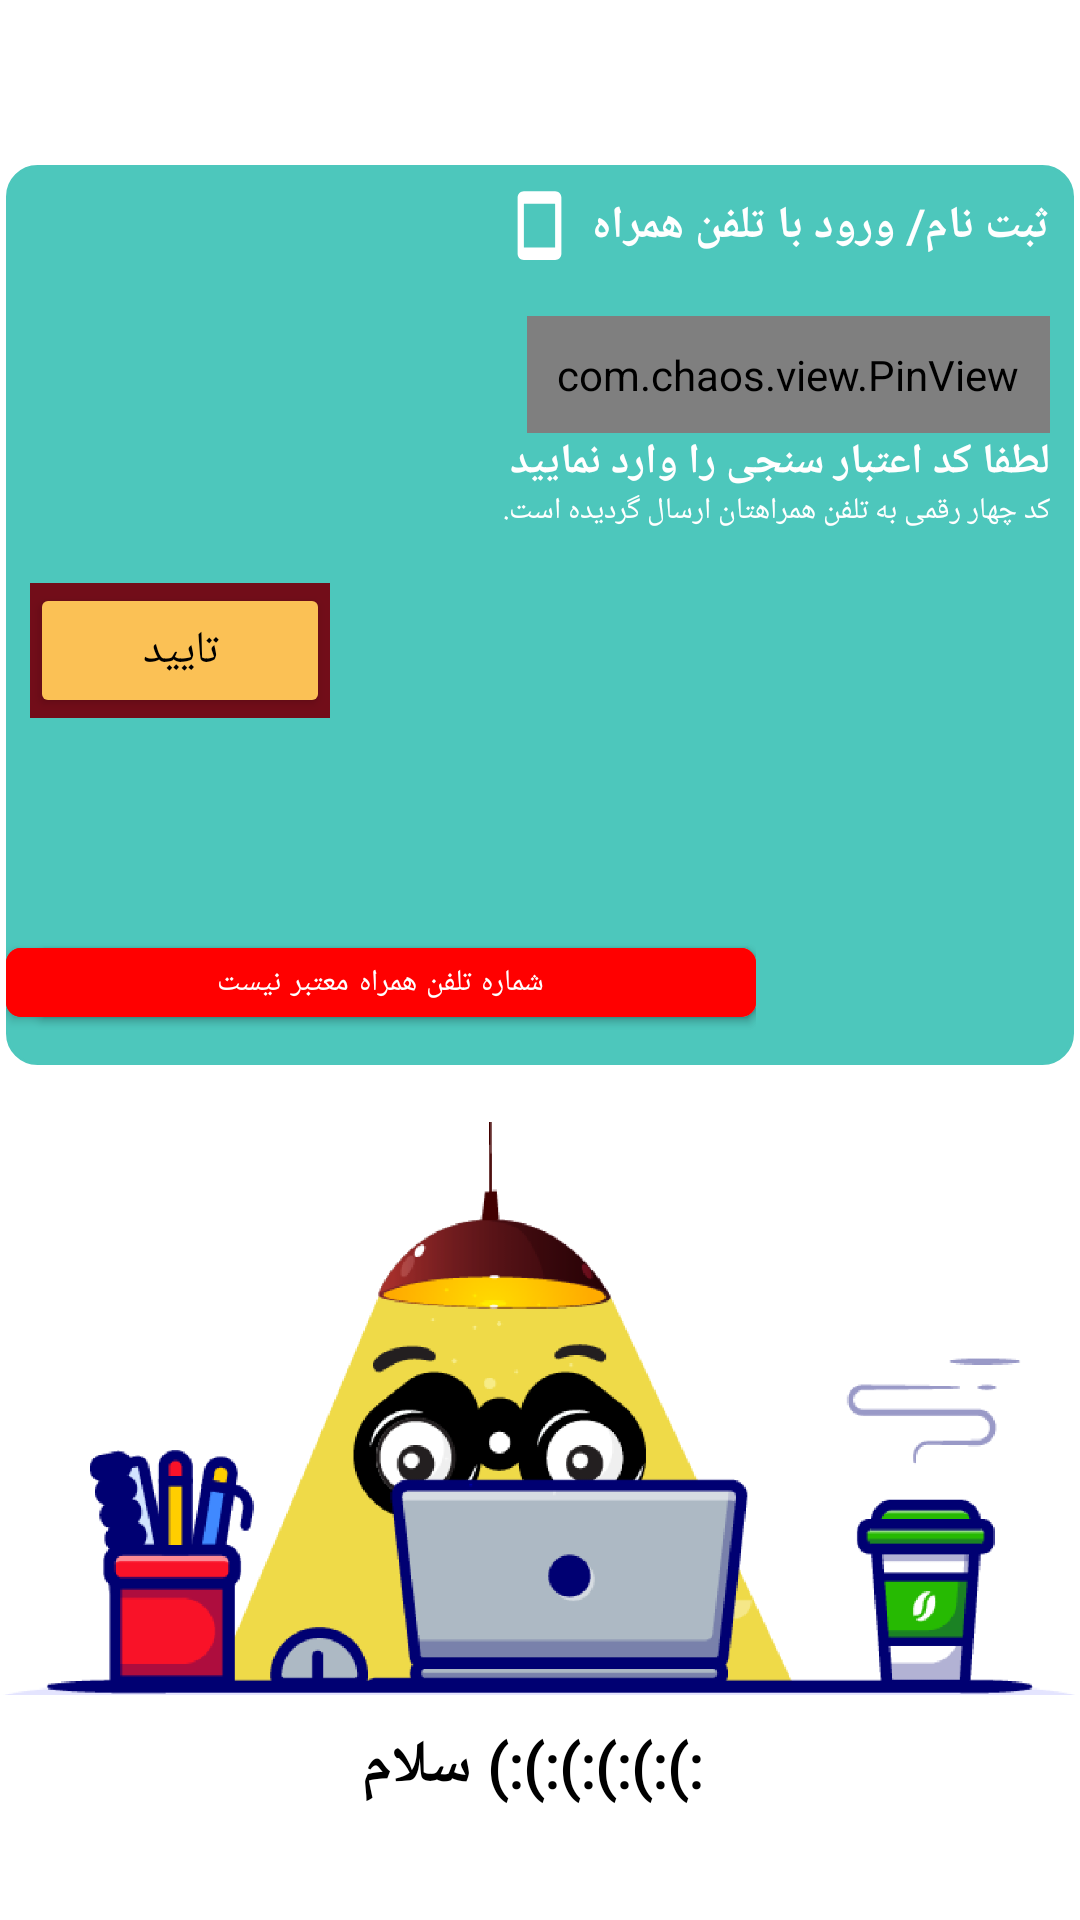

Locate icon controls on the screen. Image size 1080px x 1920px, boxes as (x1, y1, x2, y2).
phone: (517, 191, 562, 260)
